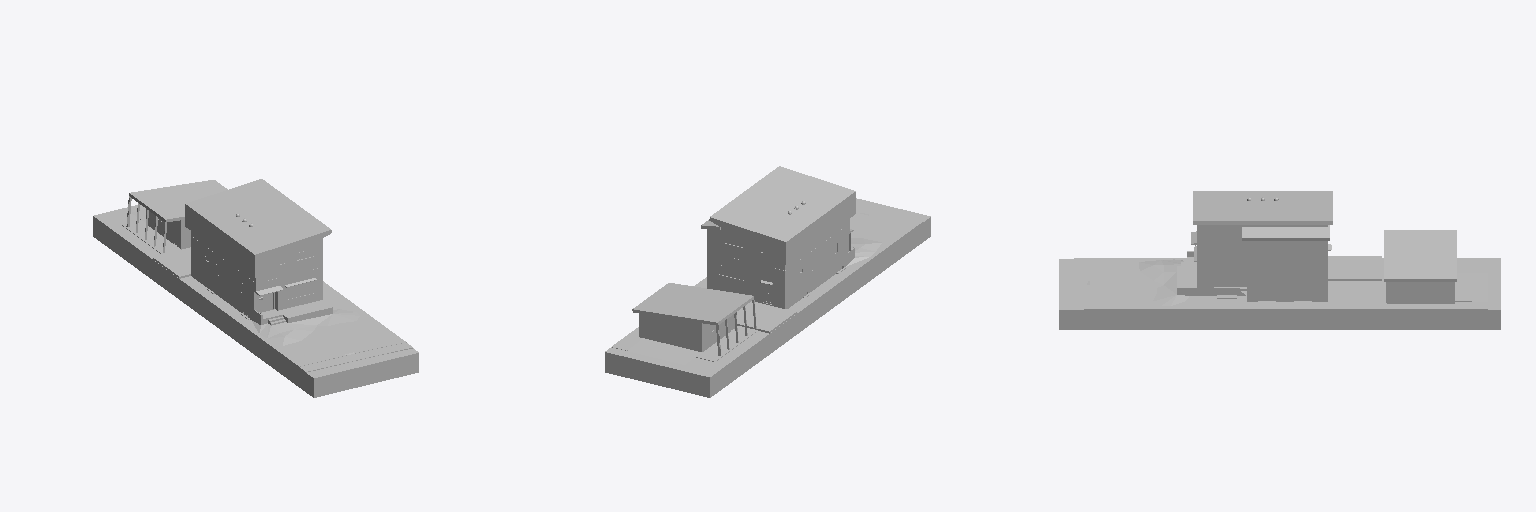
Rendered from ObjTest.obj.
The picture shows the model from 3 angles: view 1: azimuth 30°, elevation 25°; view 2: azimuth 150°, elevation 25°; view 3: azimuth 270°, elevation 25°; orthographic projection.
Visible parts, largest first — view 1: Mesh327 Group280 Model, Mesh87 Difference Group29 Model, Mesh75 Group81 Group29 Model, Mesh5 Group8 Group2 Model, Mesh326 Group281 Group280 Model, Mesh79 Group85 Group29 Model, Mesh51 Group55 Group29 Model, Mesh323 Group277 Model, Mesh4 Group7 Group2 Model, Mesh24 Group24 Model; view 2: Mesh327 Group280 Model, Mesh87 Difference Group29 Model, Mesh75 Group81 Group29 Model, Mesh5 Group8 Group2 Model, Mesh4 Group7 Group2 Model, Mesh79 Group85 Group29 Model, Mesh323 Group277 Model, Mesh1 Group1 Model, Mesh24 Group24 Model; view 3: Mesh327 Group280 Model, Mesh87 Difference Group29 Model, Mesh75 Group81 Group29 Model, Mesh5 Group8 Group2 Model, Mesh79 Group85 Group29 Model, Mesh4 Group7 Group2 Model, Mesh323 Group277 Model, Mesh326 Group281 Group280 Model, Mesh50 Group54 Group29 Model, Mesh1 Group1 Model, Mesh51 Group55 Group29 Model.
Boxes of the visible parts, box(x1,y1,x2,y2) form: Mesh327 Group280 Model: box(93, 205, 418, 397); Mesh87 Difference Group29 Model: box(185, 179, 331, 277); Mesh75 Group81 Group29 Model: box(191, 238, 322, 316); Mesh5 Group8 Group2 Model: box(129, 180, 227, 222); Mesh326 Group281 Group280 Model: box(252, 309, 359, 345); Mesh79 Group85 Group29 Model: box(191, 231, 322, 282); Mesh51 Group55 Group29 Model: box(254, 300, 332, 325); Mesh323 Group277 Model: box(153, 248, 190, 278); Mesh4 Group7 Group2 Model: box(146, 209, 190, 248); Mesh24 Group24 Model: box(121, 220, 180, 254); Mesh327 Group280 Model: box(605, 198, 930, 397); Mesh87 Difference Group29 Model: box(709, 166, 855, 264); Mesh75 Group81 Group29 Model: box(707, 226, 849, 305); Mesh5 Group8 Group2 Model: box(632, 283, 753, 325); Mesh4 Group7 Group2 Model: box(639, 312, 736, 351); Mesh79 Group85 Group29 Model: box(707, 219, 849, 270); Mesh323 Group277 Model: box(737, 301, 796, 333); Mesh1 Group1 Model: box(628, 338, 700, 364); Mesh24 Group24 Model: box(696, 326, 757, 361); Mesh327 Group280 Model: box(1059, 258, 1500, 329); Mesh87 Difference Group29 Model: box(1193, 191, 1332, 224); Mesh75 Group81 Group29 Model: box(1197, 258, 1327, 296); Mesh5 Group8 Group2 Model: box(1384, 230, 1456, 281); Mesh79 Group85 Group29 Model: box(1197, 225, 1327, 260); Mesh4 Group7 Group2 Model: box(1386, 282, 1454, 302); Mesh323 Group277 Model: box(1328, 256, 1381, 280); Mesh326 Group281 Group280 Model: box(1139, 259, 1188, 305); Mesh50 Group54 Group29 Model: box(1242, 225, 1329, 240); Mesh1 Group1 Model: box(1455, 273, 1487, 301); Mesh51 Group55 Group29 Model: box(1177, 251, 1196, 295).
Bounding box in the file's own units: 11 × 10.04 × 39.92.